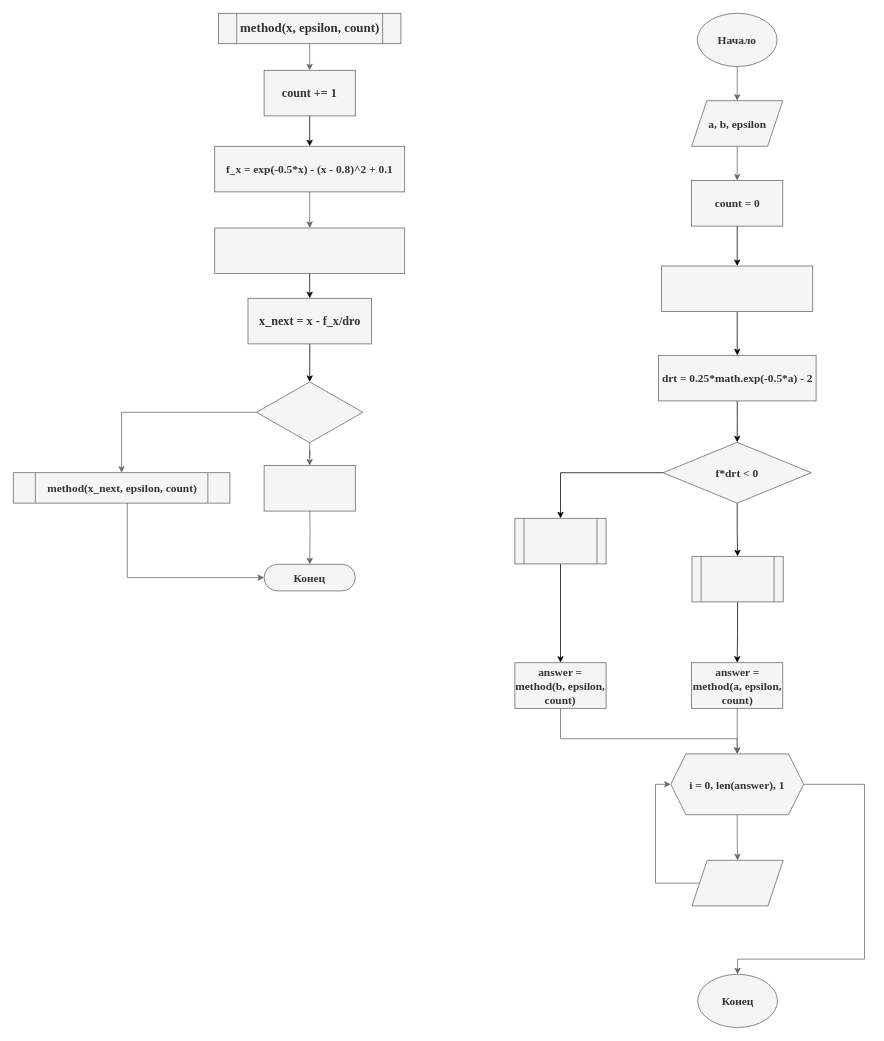
The diagram is 884 pixels wide and 1041 high, and some of its shapes have lost their labels. The centre of each missing label's shape, as x and y in pixels:
"answer[i]" belongs at (737,883).
"dro = -0.5*exp(-0.5*x) - 2*x + 1.6" belongs at (309,250).
"f = exp(-0.5*a) - (a - 0.8)^2 + 0.1" belongs at (737,288).
"method(a, epsilon, count)" belongs at (737,579).
"method(b, epsilon, count)" belongs at (560,541).
"method(x, epsilon, count) = [ x_next, count]" belongs at (309,488).
"|x_next -x| <= epsilon" belongs at (309,412).
